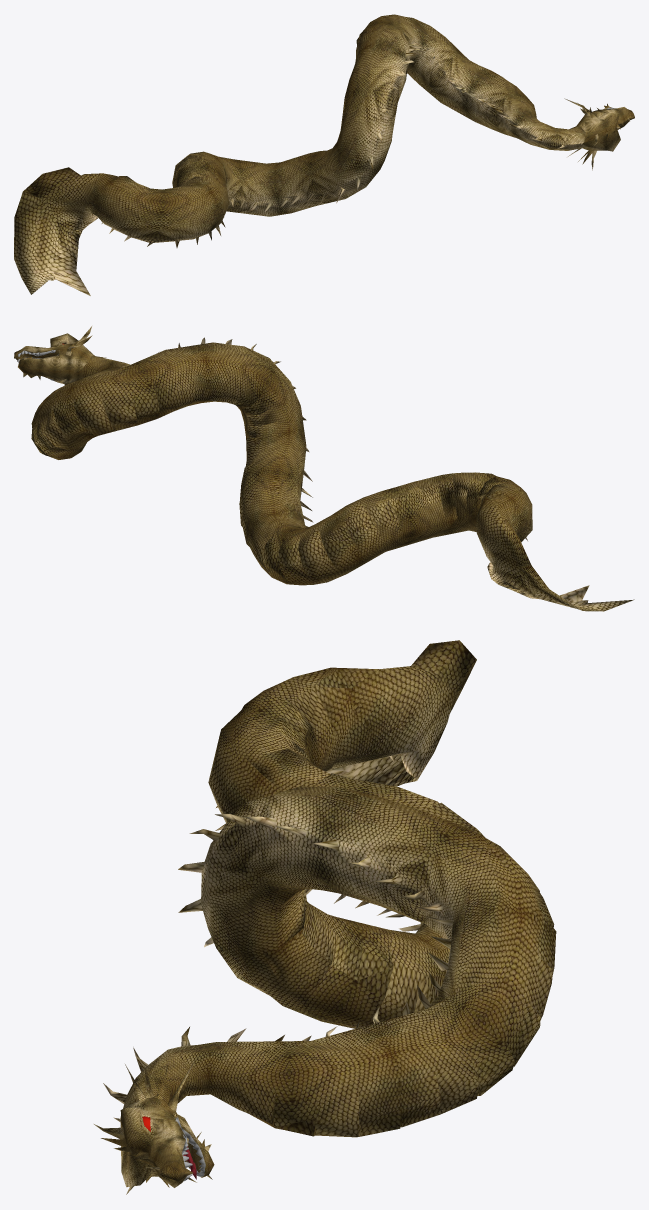
The model's file is surasa_000009.obj.
3 views of the same model, one above another, from view 1: azimuth 30°, elevation 25°; view 2: azimuth 150°, elevation 25°; view 3: azimuth 270°, elevation 25° (orthographic). The views are drawn at different scales.
Visible parts, largest first — view 1: body_Plane.001; view 2: body_Plane.001; view 3: body_Plane.001.
Part boxes in pixels (bbox=[...]): body_Plane.001: bbox=[14, 14, 634, 295]; body_Plane.001: bbox=[14, 326, 634, 611]; body_Plane.001: bbox=[94, 640, 556, 1194].
Size of the model in its own units: 61.3 by 16.48 by 21.35.
